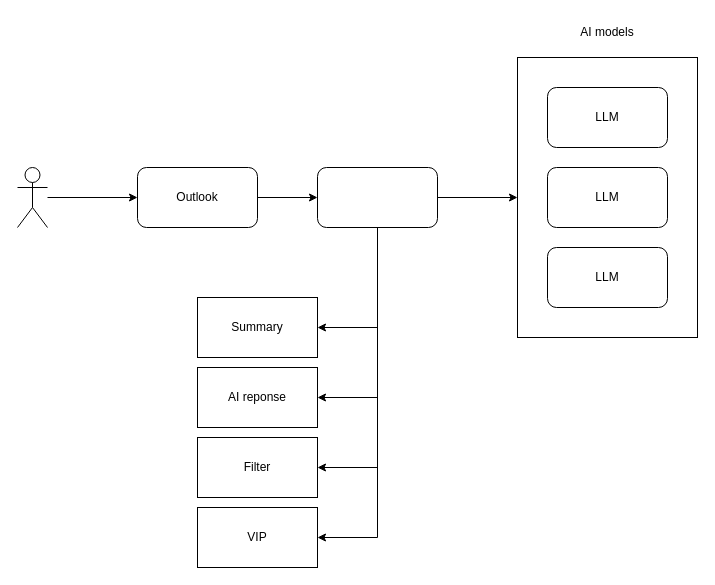
This 715x585 diagram has some shape labels left out. Here are the shapes that lost their labels. From the top down, the box of each, then its label:
(16, 166, 48, 228): User
(316, 166, 438, 228): Add on
